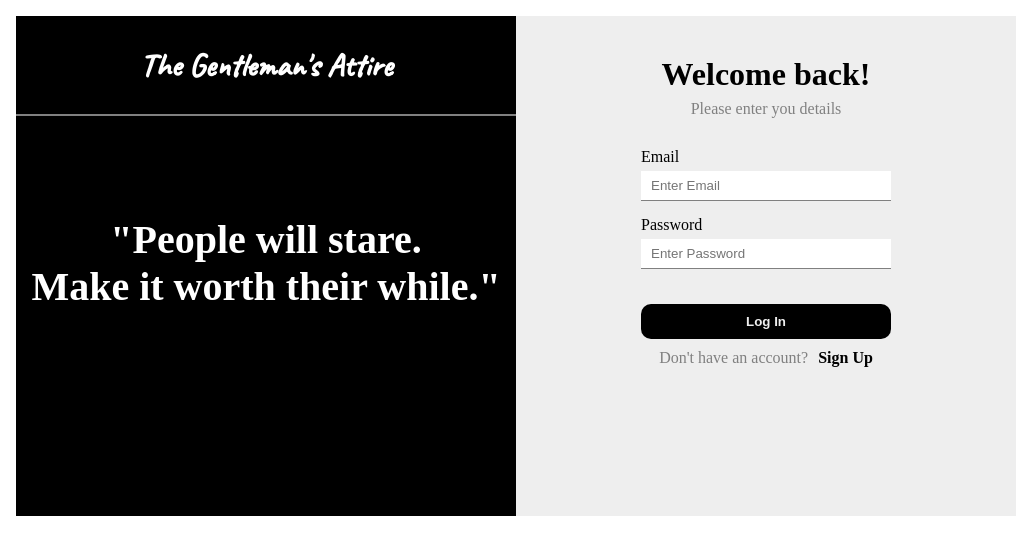
Test: Login Page › In case of empty input fields error is showing
Type "shiva123khandelwal@gmail.com" into the field labelled "Email" at (766, 186), box [641, 171, 891, 201]
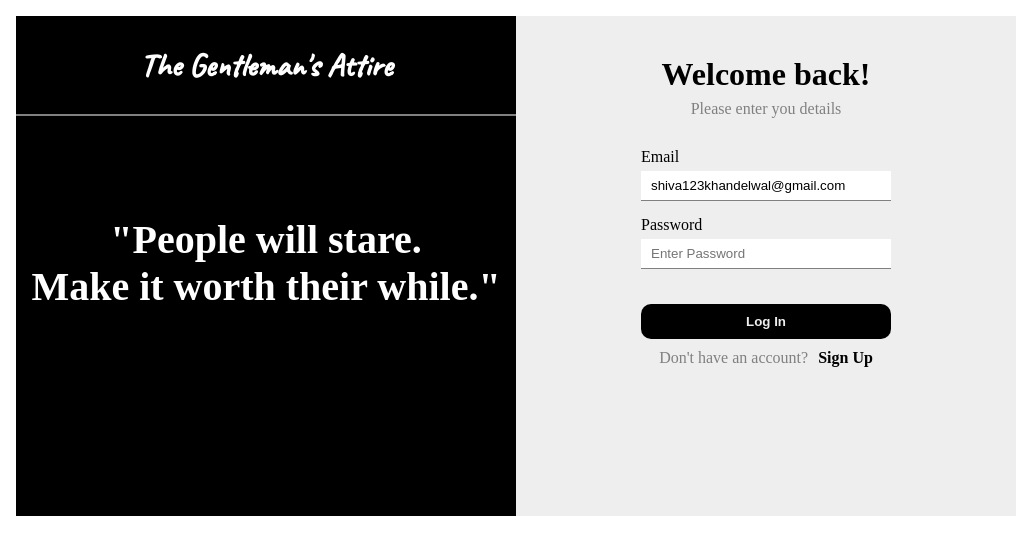
Click the button "Log In" at (766, 322), box [641, 304, 891, 339]
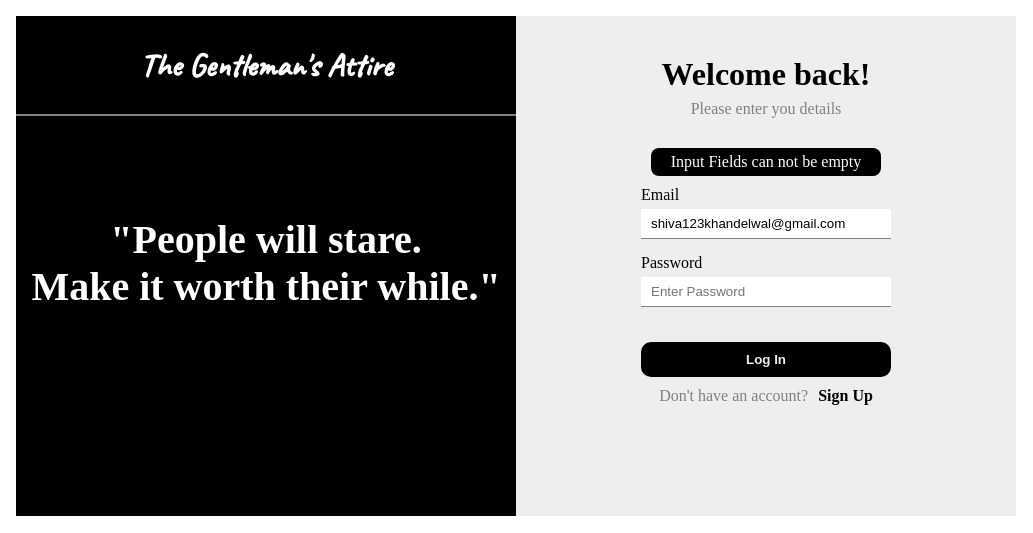
Now the text "Input Fields can not be empty" is shown, box [651, 148, 881, 176]
